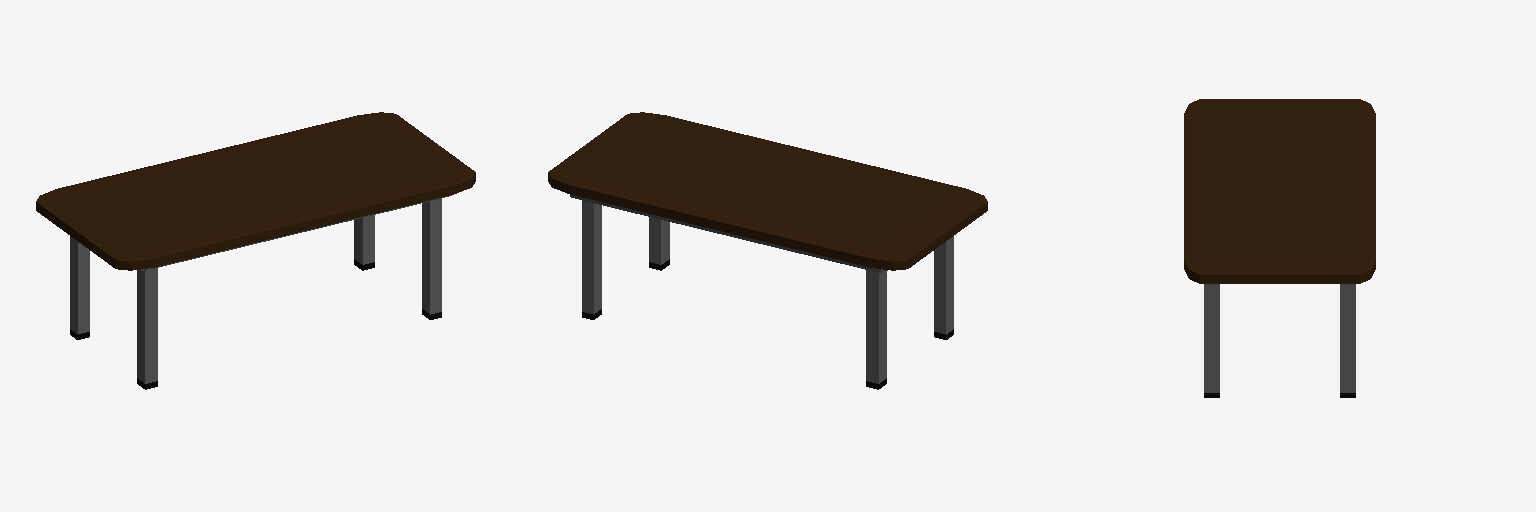
The model's file is table.obj.
3 renders of one model, left to right at view 1: azimuth 30°, elevation 25°; view 2: azimuth 150°, elevation 25°; view 3: azimuth 270°, elevation 25°, orthographic.
Visible parts, largest first — view 1: Cube, Cube.001; view 2: Cube, Cube.001, Cube.003; view 3: Cube, Cube.001.
Part boxes in pixels (bbox=[...]): Cube: bbox=[36, 112, 475, 270]; Cube.001: bbox=[70, 198, 441, 383]; Cube: bbox=[548, 112, 987, 270]; Cube.001: bbox=[582, 201, 953, 383]; Cube.003: bbox=[570, 195, 887, 272]; Cube: bbox=[1184, 99, 1375, 283]; Cube.001: bbox=[1204, 284, 1355, 392].
Size of the model in its own units: 7.43 by 2.76 by 3.42.